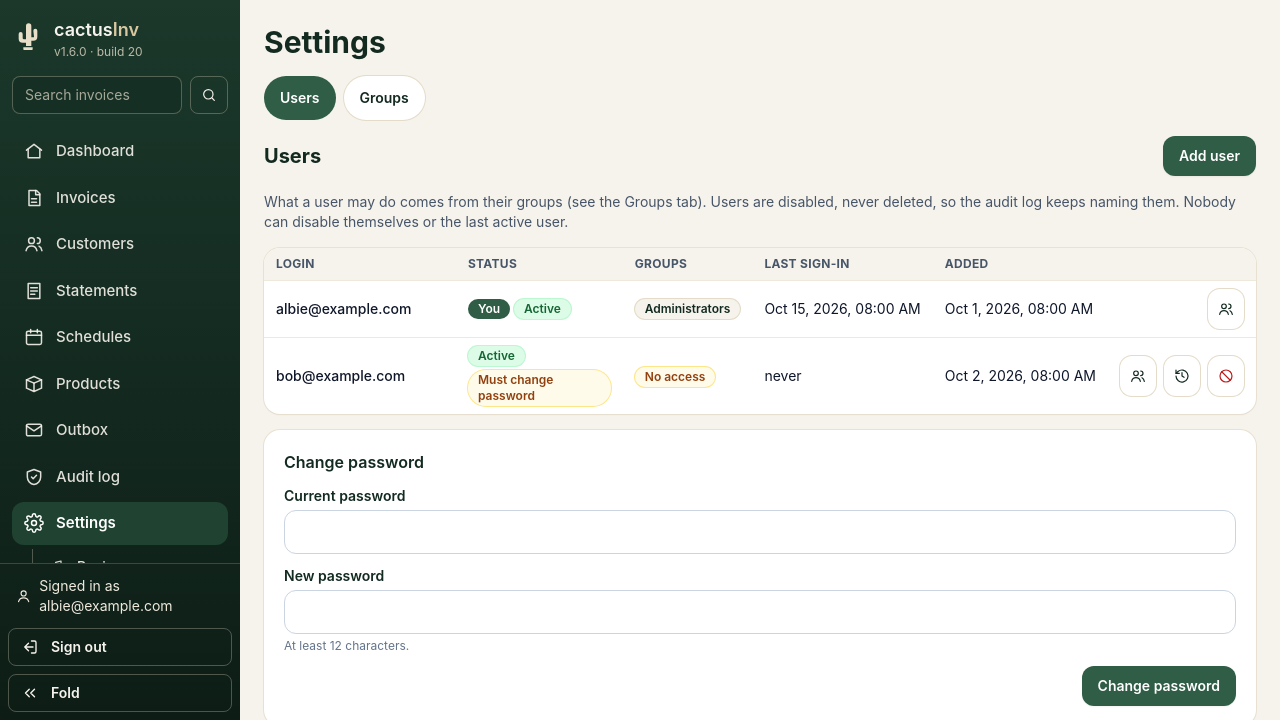
Test case: a refused disable shows the server reason
The width and height of the screenshot is (1280, 720).
Expected: the heading "Users" is shown, [264,142,321,170]
Click the button named "Disable bob@example.com" at (1226, 376), box [1208,356,1244,396]
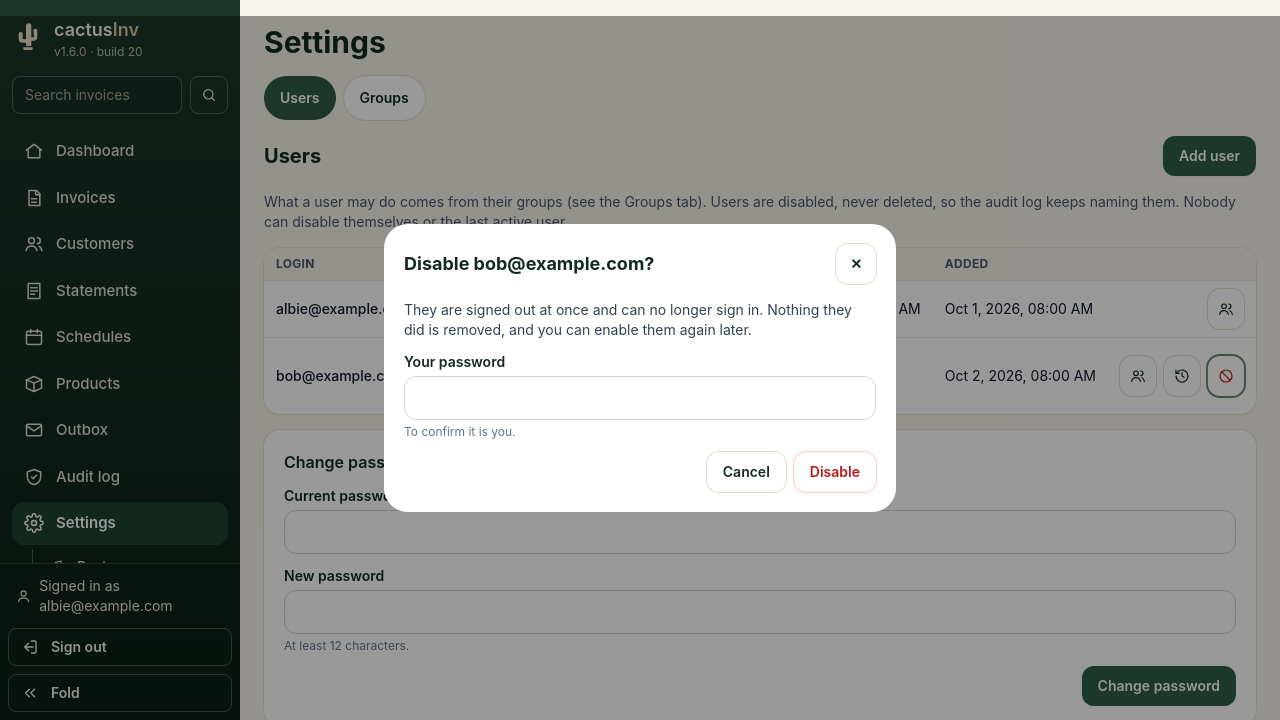
Type "correct horse battery" into the password field labelled "Your password" at (640, 398), box [404,376,876,420]
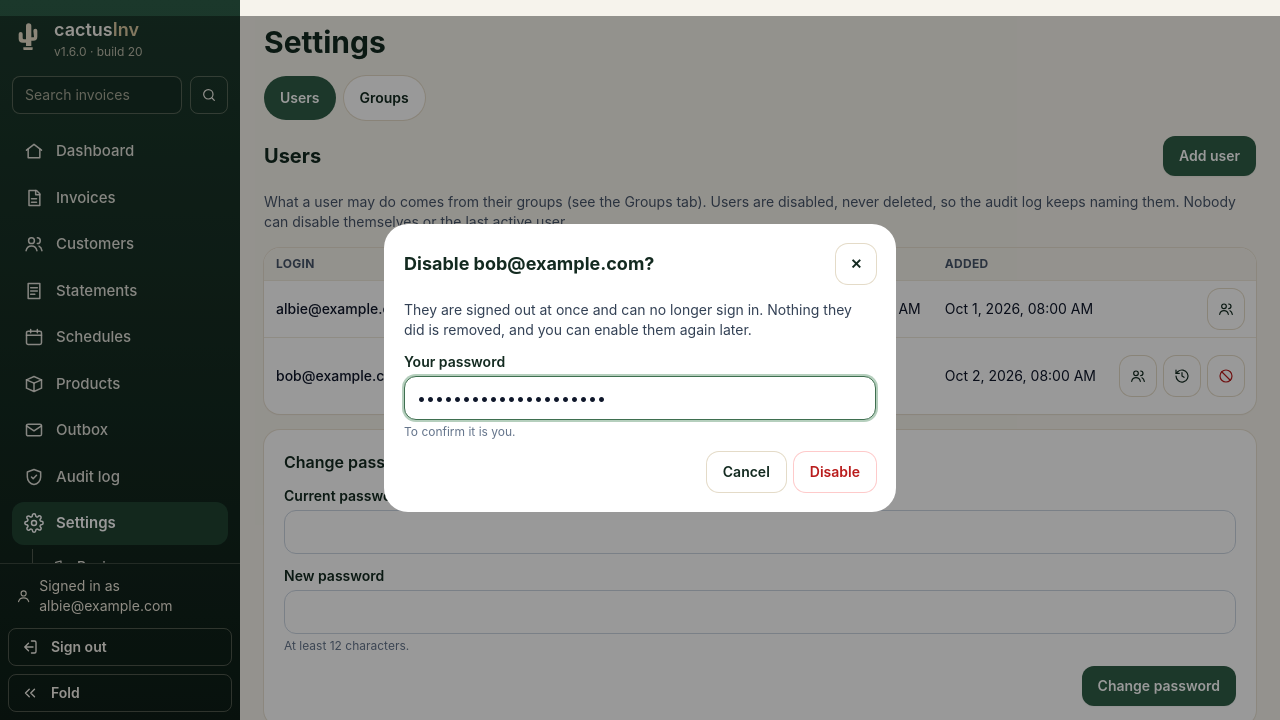
Click the button "Disable" at (835, 472), box [794,452,876,492]
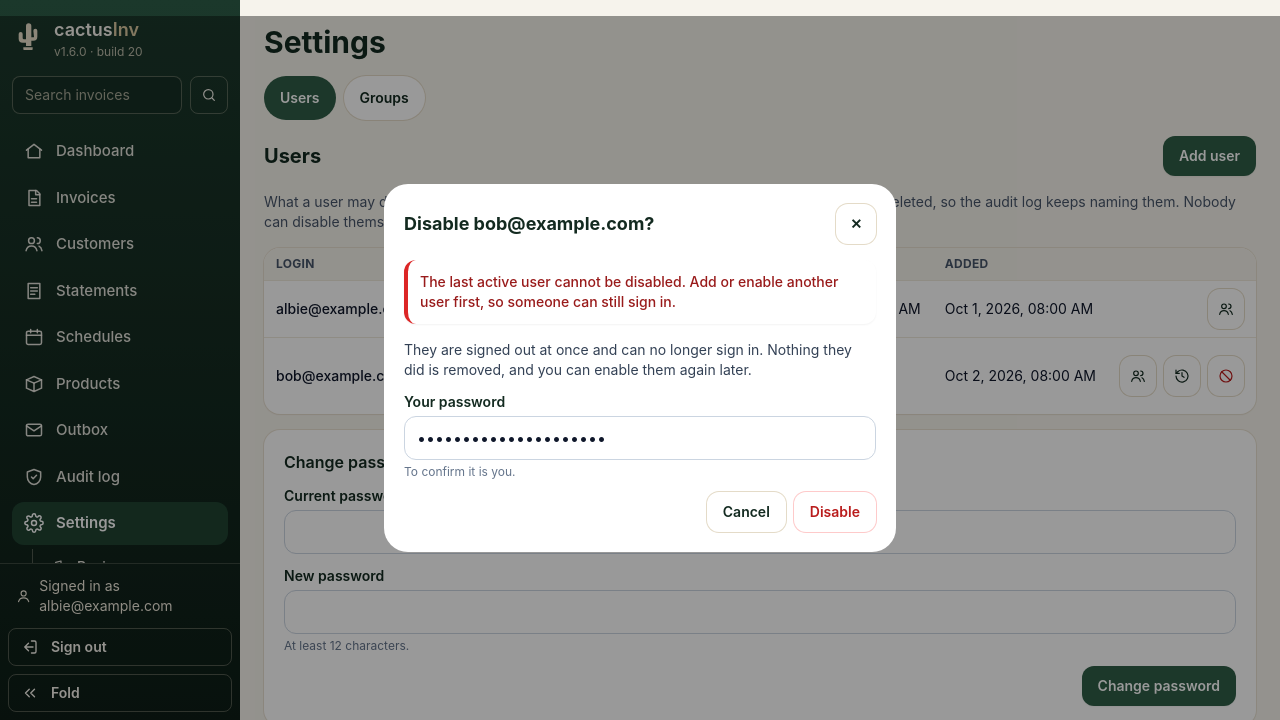
Now the message shows "The last active user cannot be disabled. Add or enable another user first", box [420,273,838,310]
